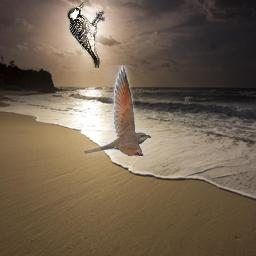Cuckoo: (85, 66, 152, 157)
Woodpecker: (67, 2, 105, 68)
